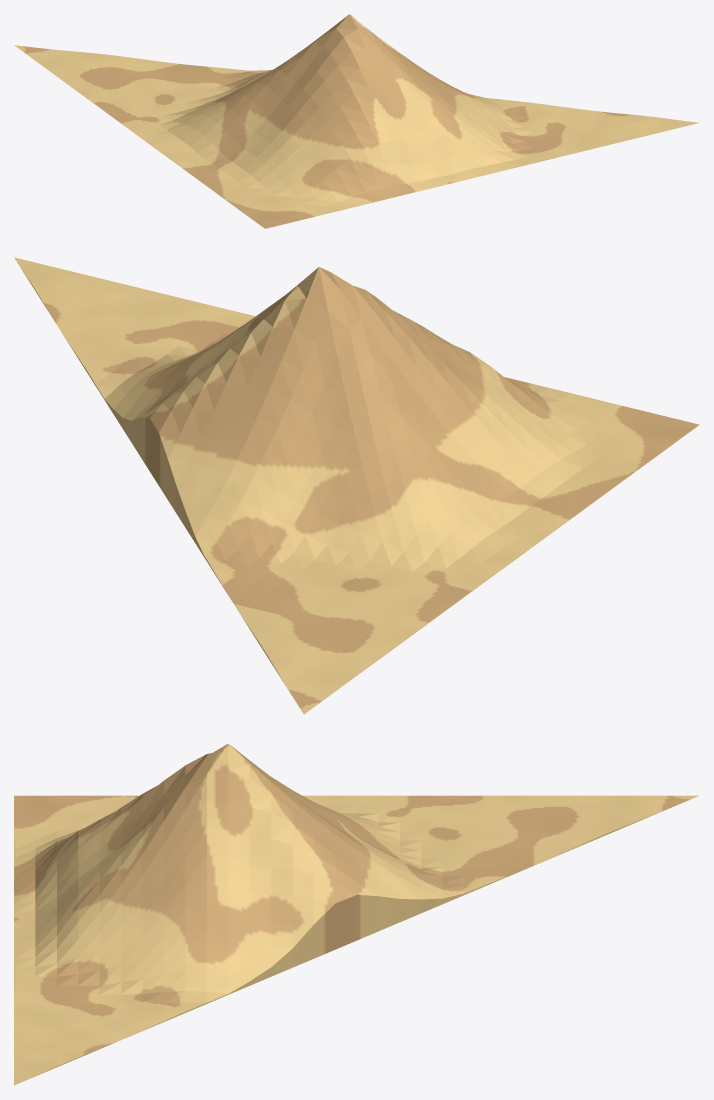
Rendered from Desert_Mountains_07_NW.obj.
3 renders of one model, top to bottom at view 1: azimuth 30°, elevation 25°; view 2: azimuth 150°, elevation 25°; view 3: azimuth 270°, elevation 25°, orthographic. The views are drawn at different scales.
Size of the model in its own units: 10 by 2.59 by 10.
1 material, 1 textured.
